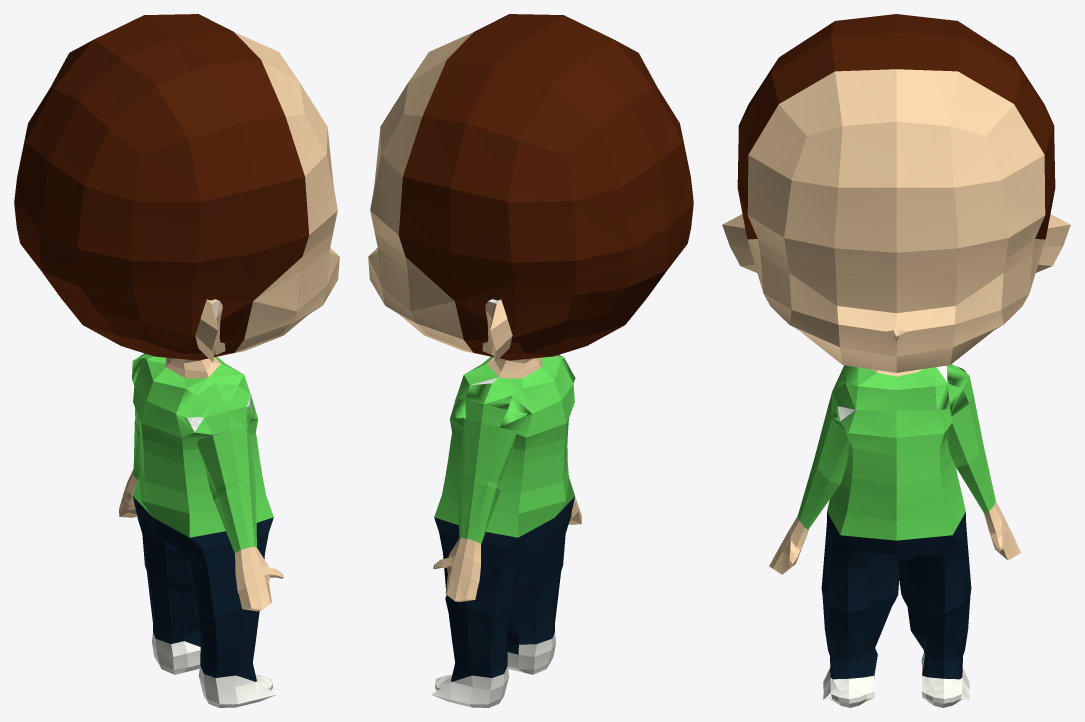
3 renders of one model, left to right at view 1: azimuth 30°, elevation 25°; view 2: azimuth 150°, elevation 25°; view 3: azimuth 270°, elevation 25°, orthographic.
Parts seen in each view (by area): view 1: head2; view 2: head2; view 3: head2.
Boxes of the visible parts, x1,y1,x2,y2 form: head2: (14,14,339,707); head2: (368,14,693,707); head2: (722,14,1070,707).
Size of the model in its own units: 5.95 by 12.96 by 6.35.
6 materials, 1 textured.
